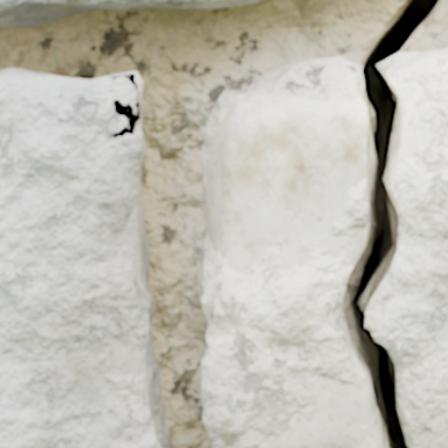brick: (0, 68, 171, 447), (0, 0, 263, 27), (135, 72, 142, 107)
broken_brick: (195, 56, 376, 447), (367, 49, 447, 447)
crack: (333, 0, 446, 447), (107, 73, 141, 139)
